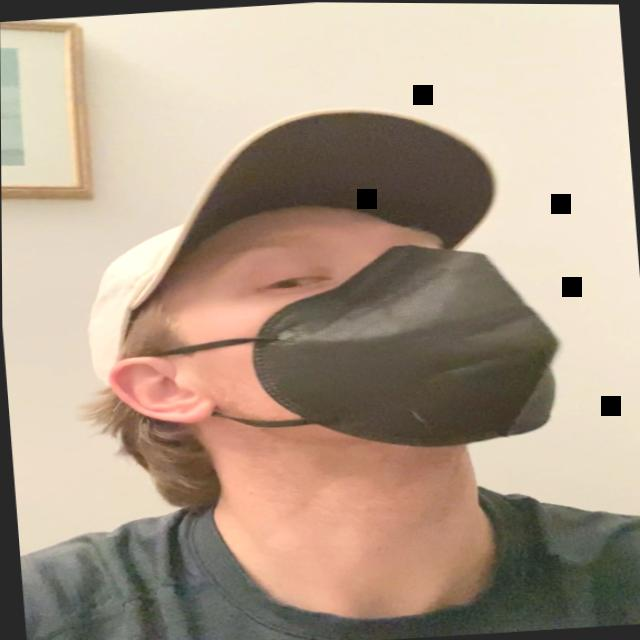Mask: (187, 189, 569, 464)
